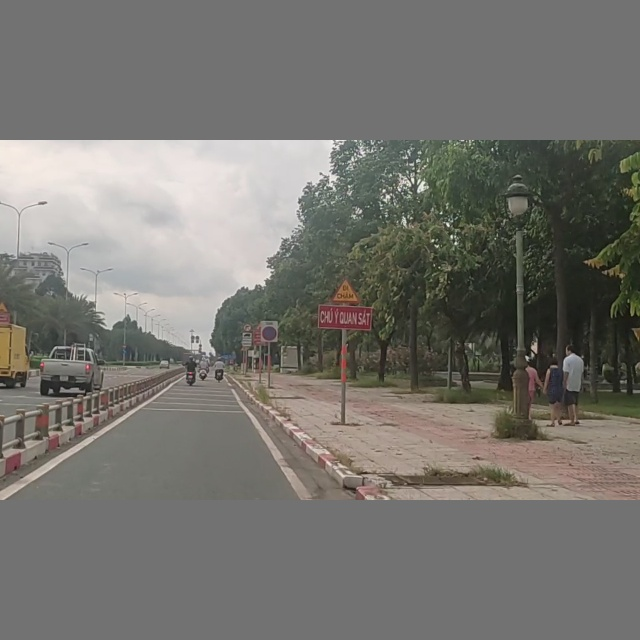P.123b: (242, 324, 252, 332)
P.130: (258, 319, 279, 342)
S.505a*Xe tai: (241, 332, 253, 345)
W.245a: (330, 277, 362, 305)
